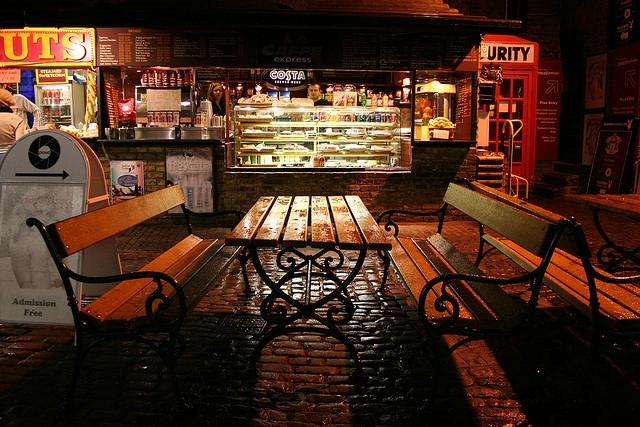banana: (88, 93, 96, 106), (88, 74, 95, 86), (429, 119, 434, 126)
